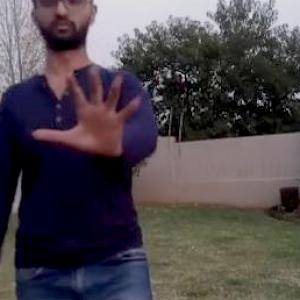follow_hand: (28, 57, 153, 163)
